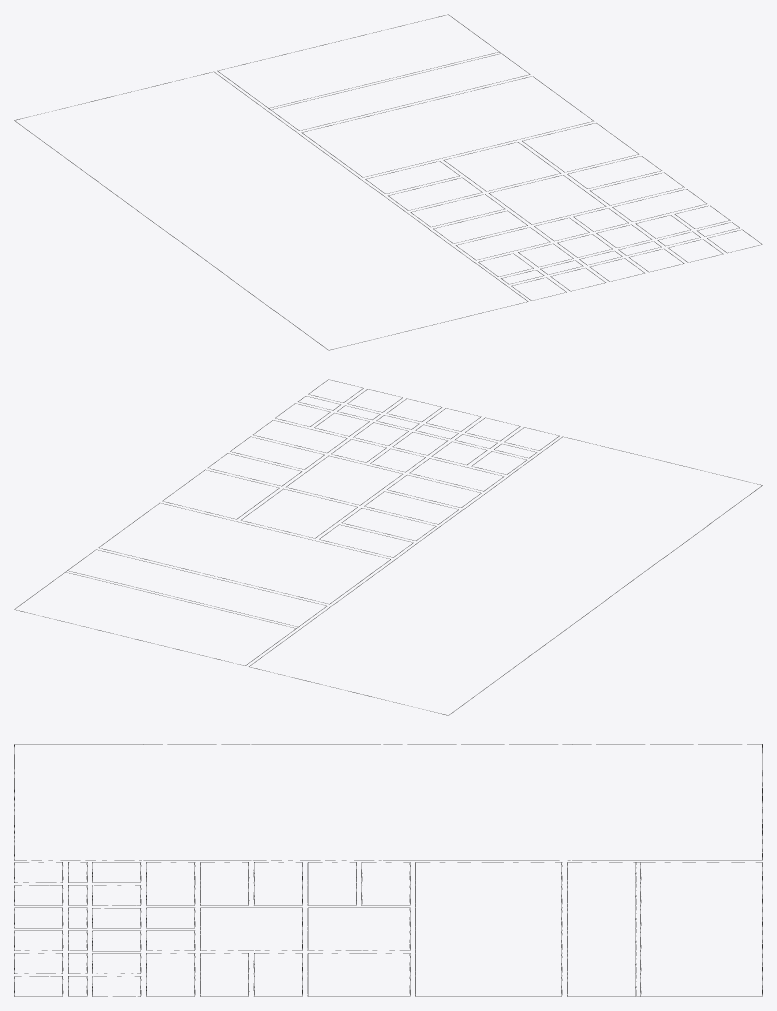
The model's file is ground-lines.glb.
3 renders of one model, top to bottom at view 1: azimuth 30°, elevation 25°; view 2: azimuth 150°, elevation 25°; view 3: azimuth 270°, elevation 25°, orthographic. The views are drawn at different scales.
Visible parts, largest first — view 1: ground-lines; view 2: ground-lines; view 3: ground-lines.
Boxes of the visible parts, <box> form: ground-lines: <box>14,14,762,350</box>; ground-lines: <box>14,379,762,715</box>; ground-lines: <box>14,744,762,996</box>.
Bounding box in the file's own units: 611 × 1.7e-13 × 765.
Materials: 1 (1 with a texture image).
